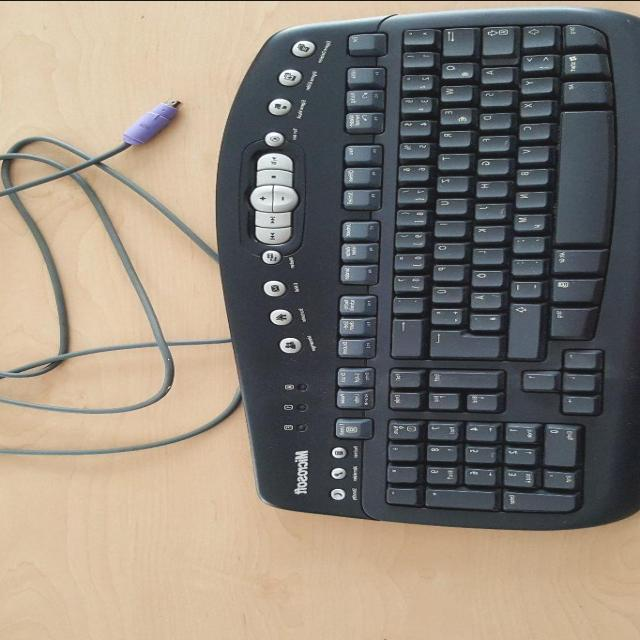0: (388, 250, 424, 267)
1: (398, 49, 432, 65)
2: (397, 71, 431, 89)
3: (396, 93, 430, 111)
4: (394, 117, 428, 133)
5: (394, 139, 427, 156)
6: (392, 162, 426, 178)
7: (392, 184, 426, 201)
8: (391, 206, 425, 224)
9: (390, 228, 424, 245)
a: (476, 64, 510, 81)
accent: (388, 294, 421, 310)
ae: (465, 289, 499, 305)
alt-left: (558, 79, 607, 102)
altgr-right: (547, 246, 601, 271)
b: (512, 165, 546, 182)
c: (513, 119, 547, 137)
caret: (398, 26, 432, 42)
comma: (508, 233, 542, 250)
d: (475, 109, 509, 127)
del: (387, 316, 419, 354)
e: (435, 105, 471, 123)
enter: (424, 327, 498, 356)
f: (473, 133, 506, 149)
g: (472, 155, 505, 172)
h: (470, 178, 504, 194)
hash: (465, 311, 499, 327)
i: (429, 218, 462, 234)
j: (469, 200, 503, 216)
k: (468, 223, 501, 239)
keyboard: (219, 3, 640, 522)
l: (468, 245, 501, 261)
less: (516, 51, 552, 69)
m: (509, 210, 543, 228)
minus: (505, 279, 538, 295)
n: (510, 187, 544, 205)
o: (428, 239, 461, 256)
oe: (466, 266, 500, 284)
p: (427, 261, 461, 278)
plus: (426, 306, 459, 322)
point: (507, 256, 540, 272)
q: (437, 59, 471, 77)
r: (434, 127, 468, 144)
s: (475, 87, 511, 104)
shift-left: (519, 23, 553, 45)
shift-lock: (478, 23, 512, 53)
shift-right: (504, 300, 537, 356)
space: (551, 108, 610, 241)
ss: (388, 271, 422, 289)
strg-left: (560, 22, 602, 44)
strg-right: (545, 304, 592, 338)
t: (432, 150, 466, 167)
tab: (437, 26, 471, 54)
u: (430, 195, 464, 211)
ue: (426, 283, 460, 300)
v: (513, 143, 545, 160)
w: (435, 82, 469, 98)
x: (515, 97, 549, 114)
y: (516, 74, 550, 90)
z: (432, 173, 465, 189)
